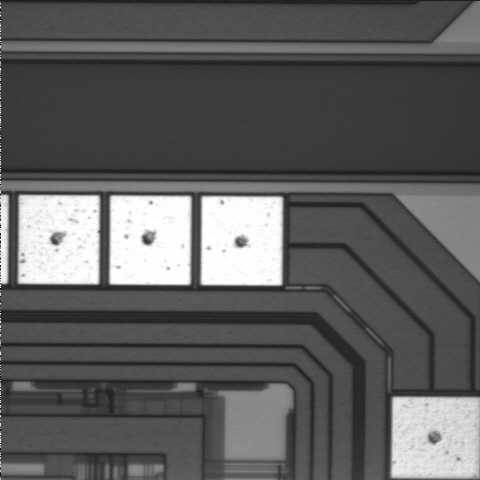pad: (18, 195, 100, 284), (109, 196, 191, 285), (201, 196, 283, 285)
